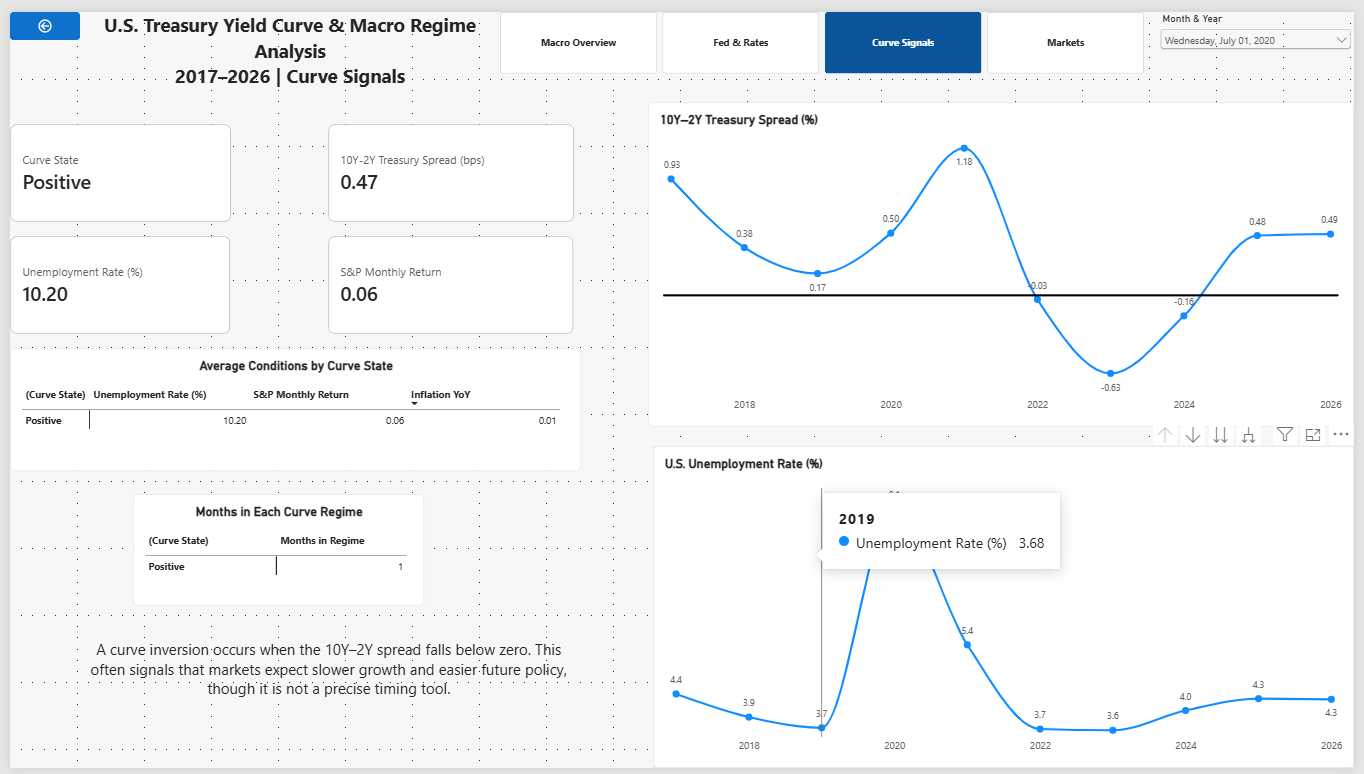

What the dashboard file says about the page in this screenshot:
{"tool":"powerbi","page":{"name":"Curve Signals","canvas":[1920,1080],"ordinal":2},"visuals":[{"type":"cardVisual","fields":{"Data":["analytics monthly_macro_market.Curve State"]},"box":[0,160,316,140],"z":0},{"type":"cardVisual","fields":{"Data":["analytics monthly_macro_market.10Y-2Y Spread"]},"box":[454.3,160,352,140],"z":1},{"type":"cardVisual","fields":{"Data":["analytics monthly_macro_market.Unemployment Rate"]},"box":[0,320,315.7,140],"z":2},{"type":"cardVisual","fields":{"Data":["analytics monthly_macro_market.S&P Monthly Return"]},"box":[454.3,320,351.4,140],"z":3},{"type":"lineChart","title":"10Y–2Y Treasury Spread (%)","fields":{"Category":["analytics dim_month.month_date.Variation.Date Hierarchy.Year","analytics dim_month.month_date.Variation.Date Hierarchy.Quarter","analytics dim_month.month_date.Variation.Date Hierarchy.Month","analytics dim_month.month_date.Variation.Date Hierarchy.Day"],"Y":["analytics monthly_macro_market.10Y-2Y Spread"]},"box":[912,128,1008,464],"z":4},{"type":"lineChart","title":"U.S. Unemployment Rate (%)","fields":{"Category":["analytics dim_month.month_date.Variation.Date Hierarchy.Year","analytics dim_month.month_date.Variation.Date Hierarchy.Quarter","analytics dim_month.month_date.Variation.Date Hierarchy.Month","analytics dim_month.month_date.Variation.Date Hierarchy.Day"],"Y":["analytics monthly_macro_market.Unemployment Rate"]},"box":[918.3,620,1002,460],"z":5},{"type":"pivotTable","title":"Average Conditions by Curve State","fields":{"Rows":["analytics monthly_macro_market.curve_state"],"Values":["analytics monthly_macro_market.Unemployment Rate","analytics monthly_macro_market.S&P Monthly Return","analytics monthly_macro_market.Inflation YoY"]},"box":[0,480,816,176],"z":6},{"type":"pivotTable","title":"Months in Each Curve Regime","fields":{"Rows":["analytics monthly_macro_market.curve_state"],"Values":["analytics monthly_macro_market.Months in Regime"]},"box":[176,688,416,160],"z":7},{"type":"actionButton","box":[0,0,100,40],"z":8},{"type":"textbox","box":[100,0,600,150],"z":9},{"type":"pageNavigator","box":[700,0,920,88.3],"z":11},{"type":"slicer","fields":{"Values":["analytics dim_month.month_date"]},"box":[1638.3,1.7,281.7,148.3],"z":12},{"type":"textbox","box":[112,896,688,144],"z":13}]}

Visuals, with their boxes on the page's 1920x1080 design canvas (x1, y1, x2, y2). These are canvas units, not pixel positions in the 1364x774 screenshot, which may show the page scaled, cropped or inside an application window:
cardVisual - analytics monthly_macro_market.Curve State: box=[0, 160, 316, 300]
cardVisual - analytics monthly_macro_market.10Y-2Y Spread: box=[454, 160, 806, 300]
cardVisual - analytics monthly_macro_market.Unemployment Rate: box=[0, 320, 316, 460]
cardVisual - analytics monthly_macro_market.S&P Monthly Return: box=[454, 320, 806, 460]
"10Y–2Y Treasury Spread (%)" lineChart: box=[912, 128, 1920, 592]
"U.S. Unemployment Rate (%)" lineChart: box=[918, 620, 1920, 1080]
"Average Conditions by Curve State" pivotTable: box=[0, 480, 816, 656]
"Months in Each Curve Regime" pivotTable: box=[176, 688, 592, 848]
actionButton: box=[0, 0, 100, 40]
textbox: box=[100, 0, 700, 150]
pageNavigator: box=[700, 0, 1620, 88]
slicer - analytics dim_month.month_date: box=[1638, 2, 1920, 150]
textbox: box=[112, 896, 800, 1040]
